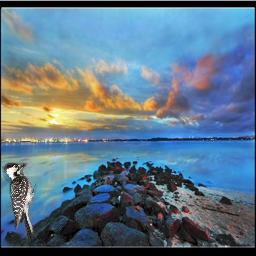Woodpecker: (1, 162, 39, 242)
